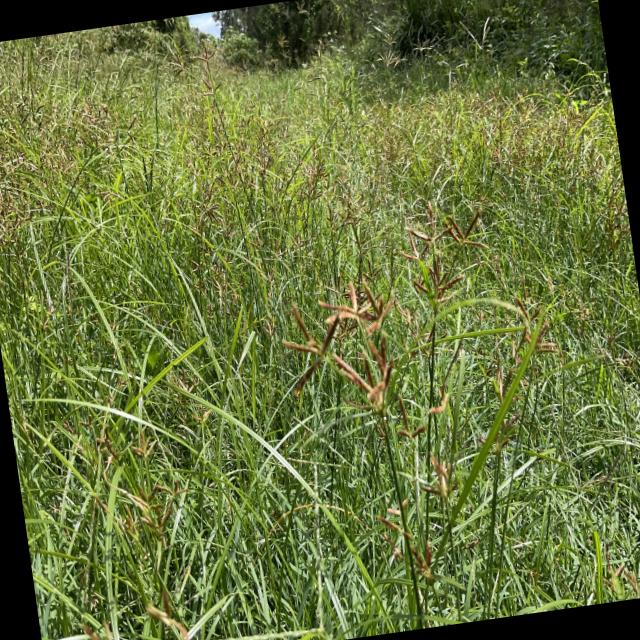cyperus: (270, 264, 410, 428), (163, 36, 244, 192), (390, 188, 486, 308), (480, 290, 566, 402), (116, 418, 190, 540), (501, 280, 566, 378), (380, 486, 440, 589), (244, 214, 292, 310), (234, 94, 286, 182), (63, 410, 124, 476), (167, 363, 218, 438), (165, 38, 222, 104), (248, 228, 292, 299), (204, 247, 250, 313), (34, 128, 82, 186), (329, 172, 370, 239), (198, 134, 244, 192), (0, 180, 35, 249), (600, 319, 640, 379), (294, 144, 332, 206), (98, 110, 146, 157), (10, 79, 48, 138), (421, 449, 458, 508), (558, 278, 593, 336), (70, 98, 110, 148), (552, 133, 582, 198), (192, 178, 226, 230), (392, 293, 426, 342), (394, 391, 425, 444), (0, 89, 20, 169), (378, 124, 408, 168), (528, 118, 552, 171), (375, 29, 405, 70), (433, 114, 462, 154), (508, 122, 532, 168), (293, 233, 319, 272), (611, 196, 632, 242), (96, 182, 123, 217), (556, 105, 584, 134), (187, 251, 210, 285), (486, 142, 506, 177), (469, 95, 489, 124), (488, 248, 505, 279), (478, 188, 493, 212), (487, 89, 504, 108)
